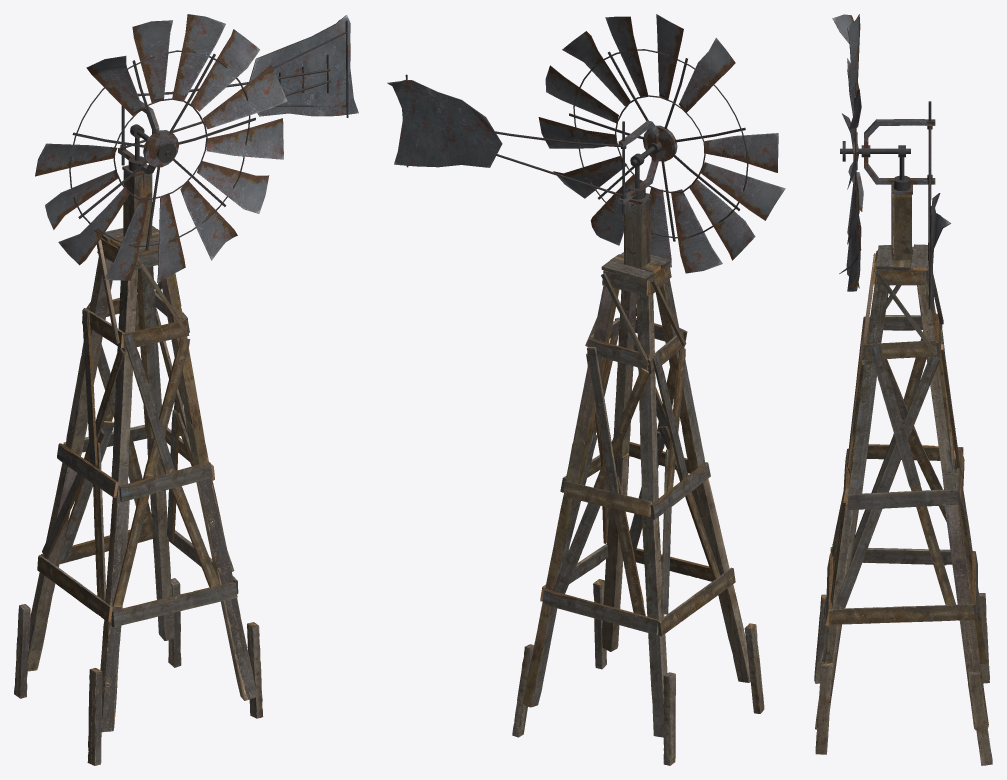
Rendered from MOD_Windmill.fbx.
The picture shows the model from 3 angles, left to right: view 1: azimuth 30°, elevation 25°; view 2: azimuth 150°, elevation 25°; view 3: azimuth 270°, elevation 25°; orthographic projection. The views are drawn at different scales.
Visible parts, largest first — view 1: MOD_Windmill, Fan, Tail, Head; view 2: MOD_Windmill, Fan, Tail, Head; view 3: MOD_Windmill, Fan, Head, Tail.
Boxes of the visible parts, <box> form: MOD_Windmill: <box>14,165,263,765</box>; Fan: <box>35,14,287,282</box>; Tail: <box>120,15,358,150</box>; Head: <box>118,100,159,174</box>; MOD_Windmill: <box>512,193,764,765</box>; Fan: <box>538,14,785,273</box>; Tail: <box>387,74,626,198</box>; Head: <box>618,120,658,213</box>; MOD_Windmill: <box>814,184,992,765</box>; Fan: <box>832,14,910,291</box>; Head: <box>864,101,935,191</box>; Tail: <box>927,126,950,314</box>.
Size of the model in its own units: 516 by 977 by 225.
2 materials, 2 textured.
